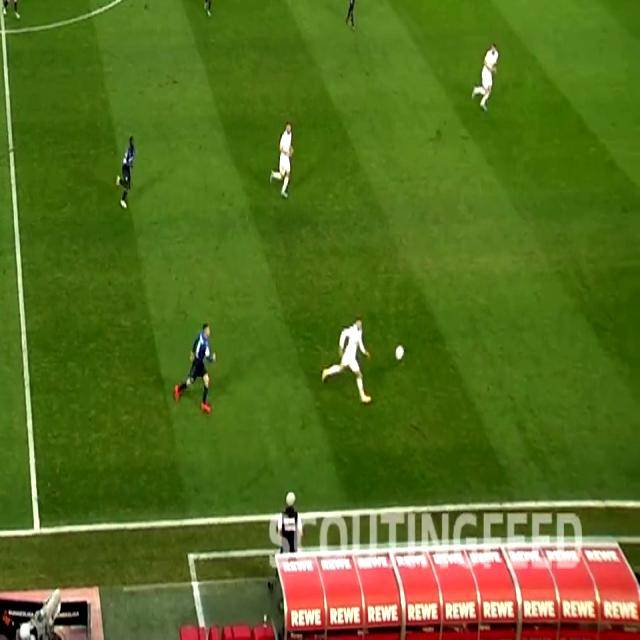ball: (391, 340, 408, 368)
soccer-player: (317, 308, 381, 409), (171, 316, 223, 418), (266, 114, 302, 202), (469, 36, 505, 116), (113, 129, 145, 214), (339, 0, 365, 34), (198, 0, 222, 20), (0, 0, 24, 20)
